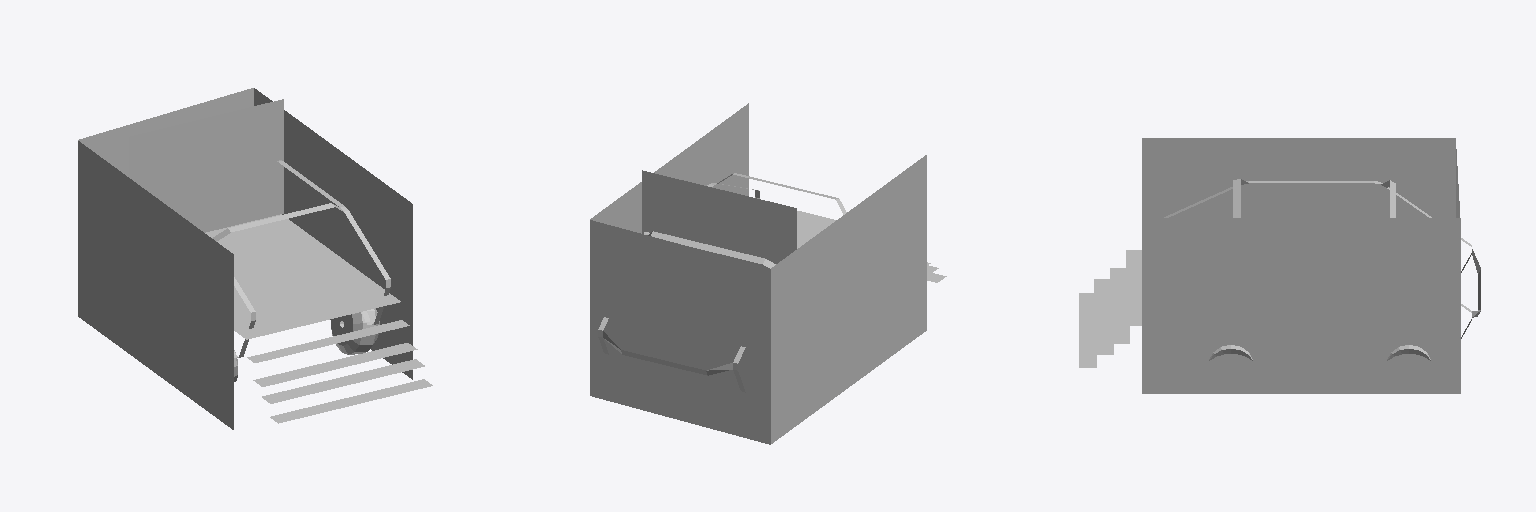
Rendered from level.obj.
3 views of the same model, side by side, from view 1: azimuth 30°, elevation 25°; view 2: azimuth 150°, elevation 25°; view 3: azimuth 270°, elevation 25° (orthographic).
Visible parts, largest first — view 1: CAR_104, CAR_102; view 2: CAR_104, CAR_102; view 3: CAR_104, CAR_102.
Part boxes in pixels (x1,y1,x2,y2): CAR_104: (78,88,432,429); CAR_102: (212,160,390,381); CAR_104: (590,103,946,444); CAR_102: (598,173,846,392); CAR_104: (1079,138,1460,393); CAR_102: (1164,179,1480,360).
Size of the model in its own units: 44.08 by 47.73 by 84.87.